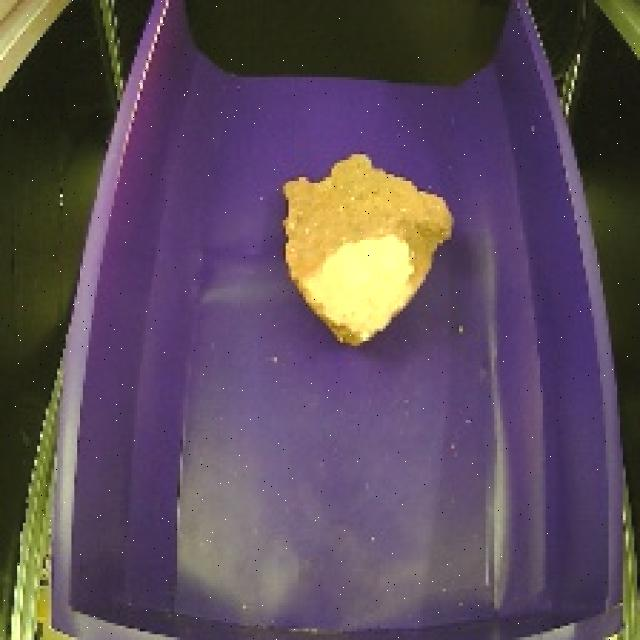brick: (271, 144, 467, 356)
